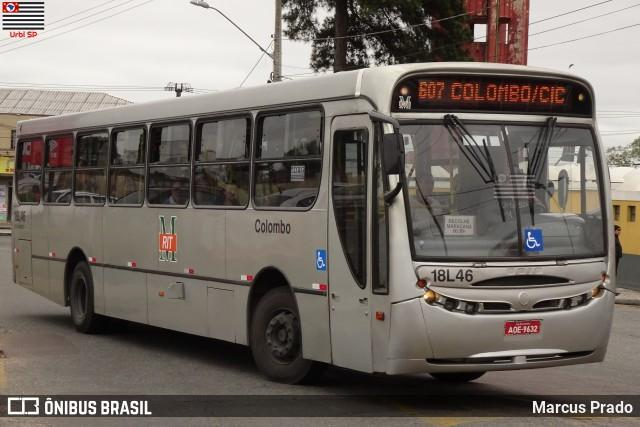COLOMBO CIC: (447, 76, 571, 105)
